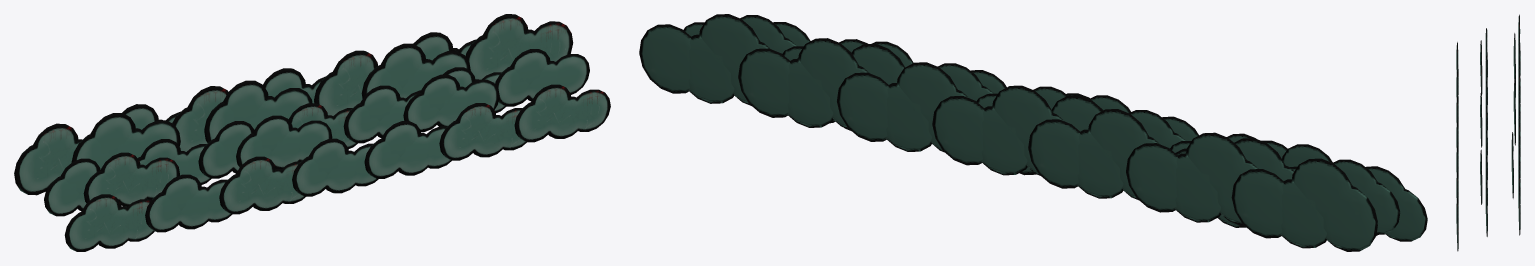
The model's file is CloudsTextured2.fbx.
3 views of the same model, side by side, from view 1: azimuth 30°, elevation 25°; view 2: azimuth 150°, elevation 25°; view 3: azimuth 270°, elevation 25° (orthographic). The views are drawn at different scales.
Visible parts, largest first — view 1: pasted__pCylinder60, pasted__pCylinder52, pasted__pCylinder51, pasted__pCylinder53, pasted__pCylinder48, pasted__pCylinder47, pasted__pCylinder50, pasted__pCylinder24, pasted__pCylinder49, pasted__pCylinder68, pasted__pCylinder69, pasted__pCylinder67 (+15 smaller); view 2: pasted__pCylinder66, pasted__pCylinder65, pasted__pCylinder60, pasted__pCylinder61, pasted__pCylinder64, pasted__pCylinder63, pasted__pCylinder62, pasted__pCylinder59, pasted__pCylinder51, pasted__pCylinder72, pasted__pCylinder70, pasted__pCylinder71 (+8 smaller); view 3: pasted__pCylinder70, pasted__pCylinder60, pasted__pCylinder71, pasted__pCylinder52, pasted__pCylinder53, pasted__pCylinder69, pasted__pCylinder68, pasted__pCylinder72, pasted__pCylinder67, pasted__pCylinder59, pasted__pCylinder66, pasted__pCylinder51 (+15 smaller).
Boxes of the visible parts, box(x1,y1,x2,y2) form: pasted__pCylinder60: box(465, 14, 573, 79); pasted__pCylinder52: box(514, 84, 610, 142); pasted__pCylinder51: box(64, 194, 154, 251); pasted__pCylinder53: box(495, 49, 589, 106); pasted__pCylinder48: box(439, 103, 526, 160); pasted__pCylinder47: box(364, 121, 451, 178); pasted__pCylinder50: box(145, 174, 232, 232); pasted__pCylinder24: box(292, 138, 378, 196); pasted__pCylinder49: box(219, 156, 305, 214); pasted__pCylinder68: box(83, 152, 179, 207); pasted__pCylinder69: box(403, 74, 499, 132); pasted__pCylinder67: box(236, 115, 332, 169); pasted__pCylinder66: box(1231, 158, 1378, 251); pasted__pCylinder65: box(1126, 132, 1258, 225); pasted__pCylinder60: box(639, 14, 770, 105); pasted__pCylinder61: box(738, 38, 869, 129); pasted__pCylinder64: box(1028, 109, 1160, 200); pasted__pCylinder63: box(932, 85, 1065, 175); pasted__pCylinder62: box(837, 62, 969, 152); pasted__pCylinder59: box(1290, 159, 1400, 234); pasted__pCylinder51: box(1366, 166, 1427, 241); pasted__pCylinder72: box(1175, 138, 1294, 227); pasted__pCylinder70: box(797, 43, 904, 130); pasted__pCylinder71: box(1019, 95, 1103, 175); pasted__pCylinder70: box(1511, 132, 1513, 198); pasted__pCylinder60: box(1518, 168, 1520, 235); pasted__pCylinder71: box(1513, 78, 1515, 145); pasted__pCylinder52: box(1456, 196, 1458, 251); pasted__pCylinder53: box(1485, 182, 1487, 236); pasted__pCylinder69: box(1480, 149, 1482, 204); pasted__pCylinder68: box(1480, 40, 1482, 95); pasted__pCylinder72: box(1513, 33, 1515, 97); pasted__pCylinder67: box(1480, 92, 1482, 147); pasted__pCylinder59: box(1485, 28, 1487, 79); pasted__pCylinder66: box(1518, 14, 1520, 75); pasted__pCylinder51: box(1456, 42, 1458, 94).
Size of the model in its own units: 18.13 by 2.97 by 2.57.
Materials: 2 (2 with a texture image).
